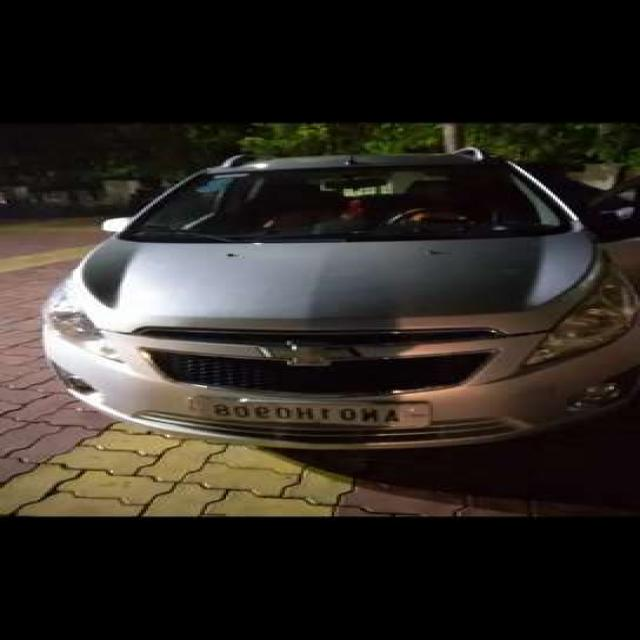license_plate: (193, 392, 445, 429)
